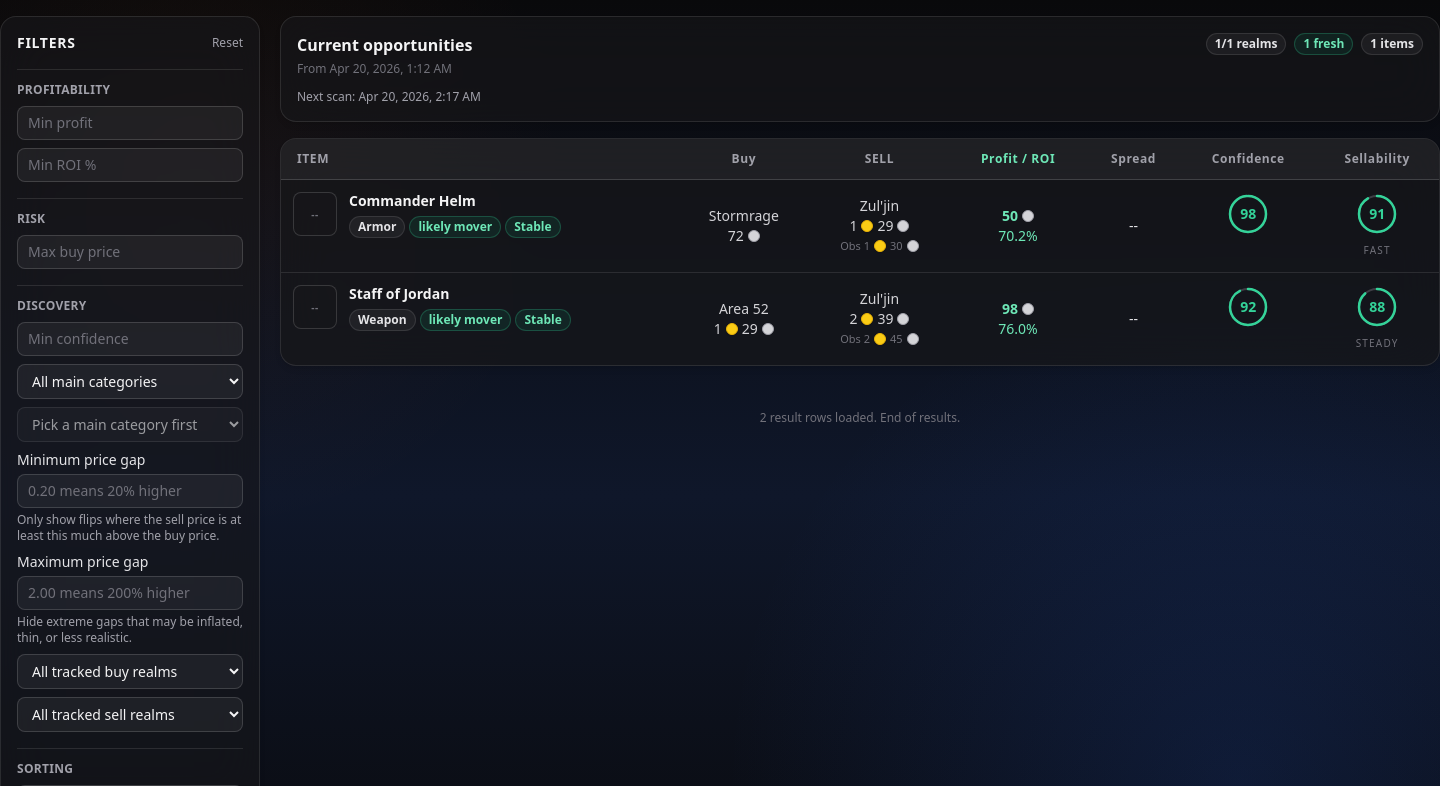
Test: Scanner page › applies hard filters that remove non-matching rows
The image size is (1440, 786).
In the number field with placeholder "Min profit": (130,123) [17,106,243,140], type "9000"
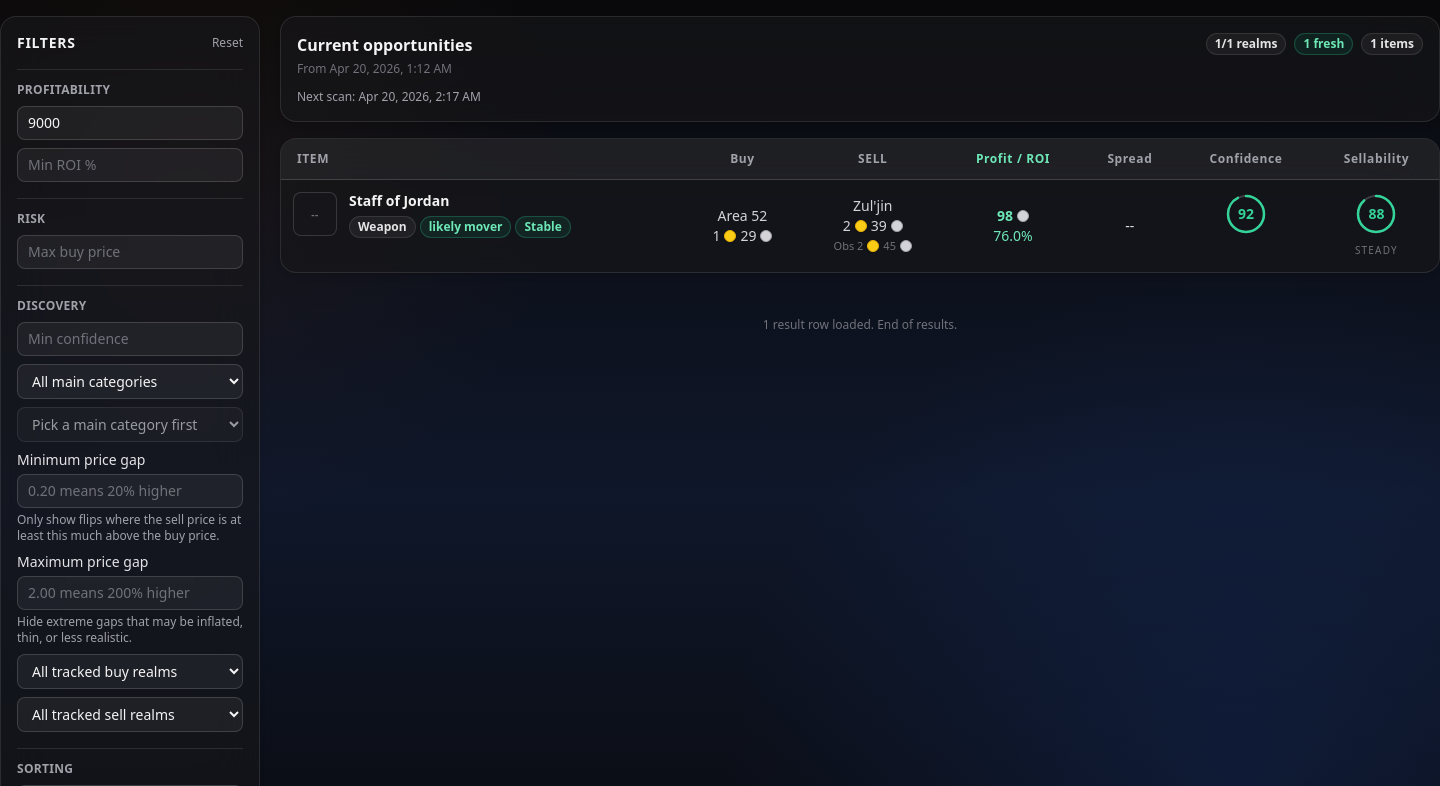
Expected: no links "Commander Helm" are shown
